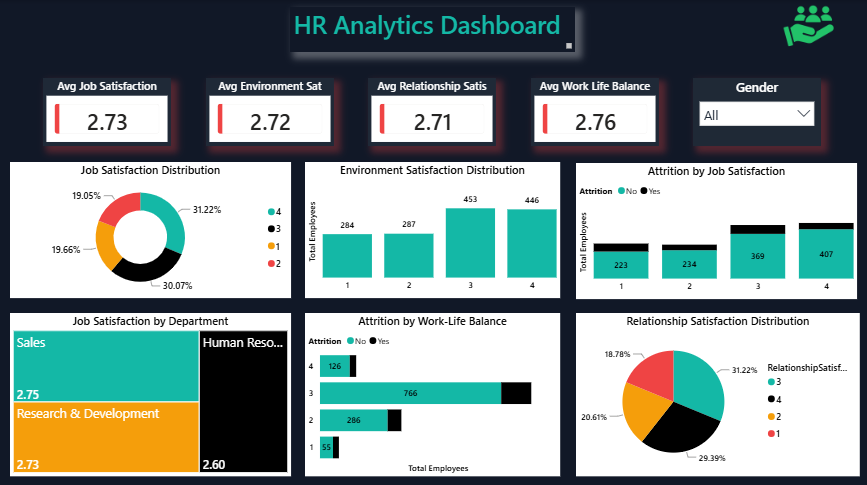

Layout of this report page (visuals, bound fields, positions):
{"tool":"powerbi","page":{"name":"Satisfaction & Engagement","canvas":[1280,720],"ordinal":3},"visuals":[{"type":"cardVisual","title":"Avg Job Satisfaction","fields":{"Data":["Employees.Avg Job Satisfaction"]},"box":[66.1,114.6,188.1,99.9],"z":0},{"type":"cardVisual","title":"Avg Environment Sat","fields":{"Data":["Employees.Avg Environment Satisfaction"]},"box":[304.9,114.6,188.1,99.9],"z":1000},{"type":"cardVisual","title":"Avg Relationship Satis","fields":{"Data":["Employees.Avg Relationship Satisfaction"]},"box":[543.7,114.6,188.1,99.9],"z":2000},{"type":"cardVisual","title":"Avg Work Life Balance","fields":{"Data":["Employees.Avg Work Life Balance"]},"box":[782.4,114.6,188.1,99.9],"z":3000},{"type":"donutChart","title":"Job Satisfaction Distribution","fields":{"Y":["Employees.Total Employees"],"Category":["Employees.JobSatisfaction"]},"box":[17.6,238,412.9,199.8],"z":4000},{"type":"columnChart","title":"Environment Satisfaction Distribution","fields":{"Category":["Employees.EnvironmentSatisfaction"],"Y":["Employees.Total Employees"]},"box":[451.1,238,374.7,199.8],"z":5000},{"type":"pieChart","title":"Relationship Satisfaction Distribution","fields":{"Category":["Employees.RelationshipSatisfaction"],"Y":["Employees.Total Employees"]},"box":[849.3,459.9,417.3,239.5],"z":6000},{"type":"treemap","title":"Job Satisfaction by Department","fields":{"Group":["Employees.Department"],"Values":["Employees.Avg Job Satisfaction"]},"box":[17.6,459.9,412.9,239.5],"z":7000},{"type":"columnChart","title":"Attrition by Job Satisfaction","fields":{"Series":["Employees.Attrition"],"Category":["Employees.JobSatisfaction"],"Y":["Employees.Total Employees"]},"box":[849.3,239.5,412.9,199.8],"z":8000},{"type":"barChart","title":"Attrition by Work-Life Balance","fields":{"Category":["Employees.WorkLifeBalance"],"Series":["Employees.Attrition"],"Y":["Employees.Total Employees"]},"box":[451.1,459.9,374.7,239.5],"z":9000},{"type":"slicer","title":"Gender","fields":{"Values":["Employees.Gender"]},"box":[1021.2,114.6,188,100],"z":10000},{"type":"textbox","title":"HR Analytics Dashboard","box":[429.1,10.3,418.8,66.1],"z":10001},{"type":"image","box":[1124.1,0,133.7,76.4],"z":10002}]}

Visuals, with their boxes in screenshot pixels (x1, y1, x2, y2), scaled from the page's 1280x720 canvas onto the 867x485 screenshot:
"Avg Job Satisfaction" cardVisual: bbox(45, 77, 172, 144)
"Avg Environment Sat" cardVisual: bbox(207, 77, 334, 144)
"Avg Relationship Satis" cardVisual: bbox(368, 77, 496, 144)
"Avg Work Life Balance" cardVisual: bbox(530, 77, 657, 144)
"Job Satisfaction Distribution" donutChart: bbox(12, 160, 292, 295)
"Environment Satisfaction Distribution" columnChart: bbox(306, 160, 559, 295)
"Relationship Satisfaction Distribution" pieChart: bbox(575, 310, 858, 471)
"Job Satisfaction by Department" treemap: bbox(12, 310, 292, 471)
"Attrition by Job Satisfaction" columnChart: bbox(575, 161, 855, 296)
"Attrition by Work-Life Balance" barChart: bbox(306, 310, 559, 471)
"Gender" slicer: bbox(692, 77, 819, 145)
"HR Analytics Dashboard" textbox: bbox(291, 7, 574, 51)
image: bbox(761, 0, 852, 51)
